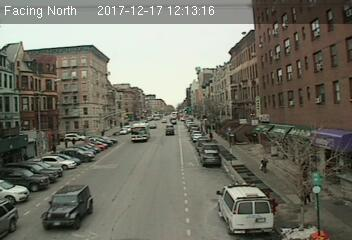bus: (130, 122, 150, 144)
car: (40, 185, 93, 229), (202, 149, 221, 167), (164, 127, 176, 137)
police: (217, 181, 274, 233)
